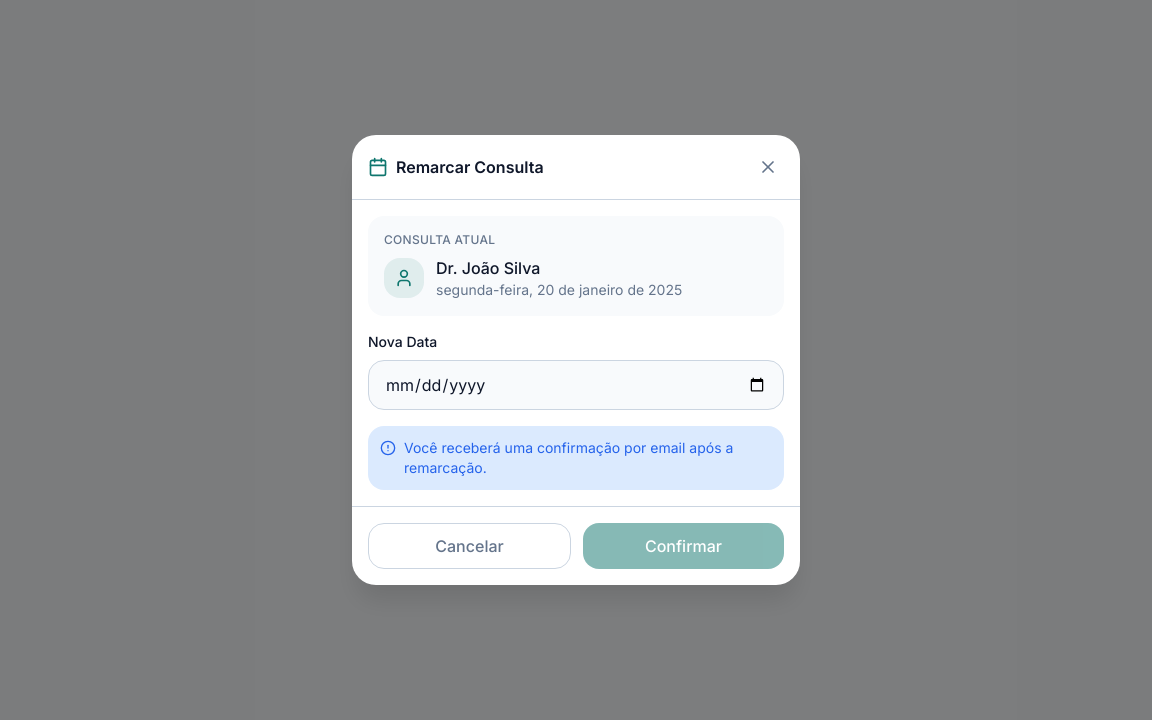
RescheduleModal › date selection › should show time slots when date is selected
Type "2025-02-20" into the date field at (576, 385), box [368,360,784,410]
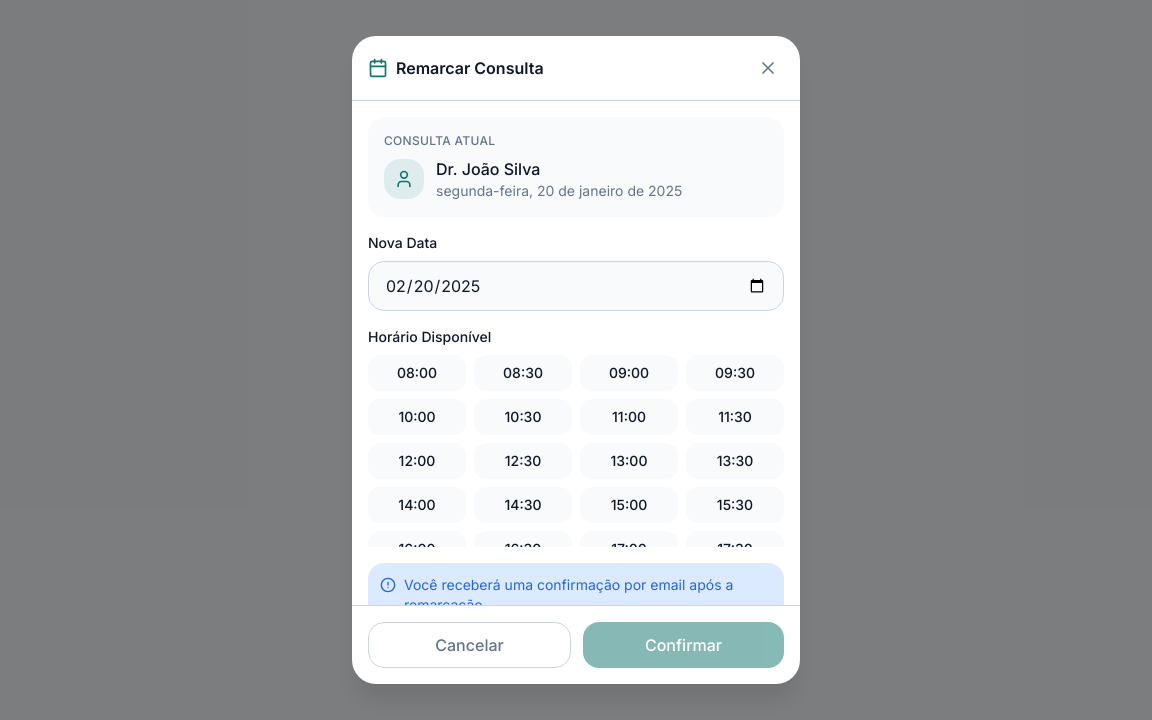
Check: the text "Horário Disponível" is shown, box [368,328,491,345]
Check: the button "08:00" is shown, box [368,355,466,391]
